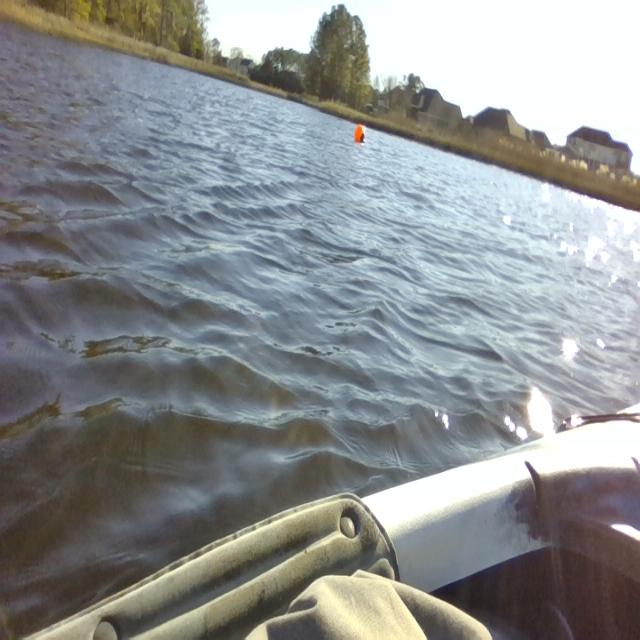Buoy: (348, 120, 372, 147)
